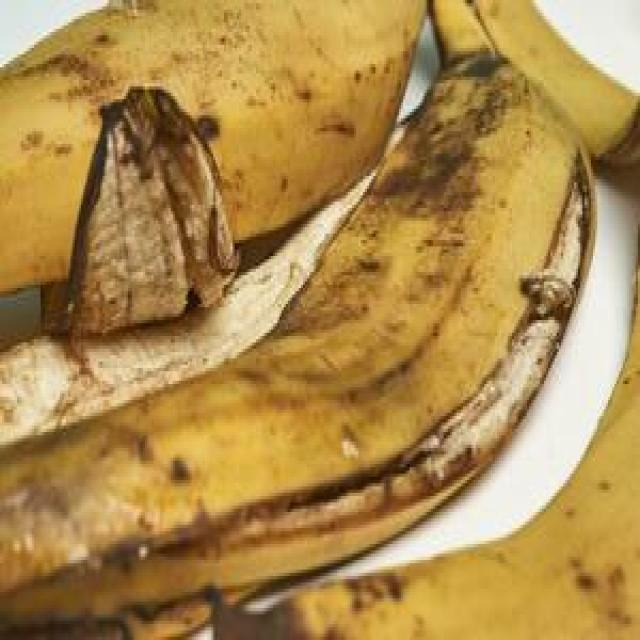banana_peel: (0, 36, 613, 637), (0, 0, 446, 337)
